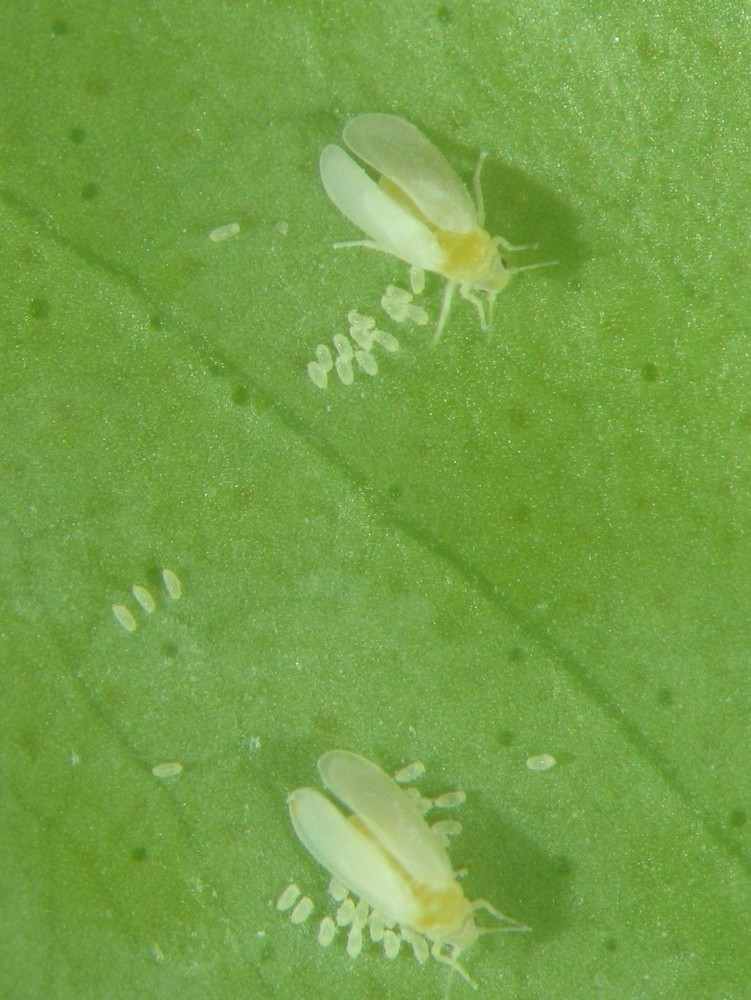Mosca Blanca: (255, 741, 563, 990), (288, 104, 582, 354)
